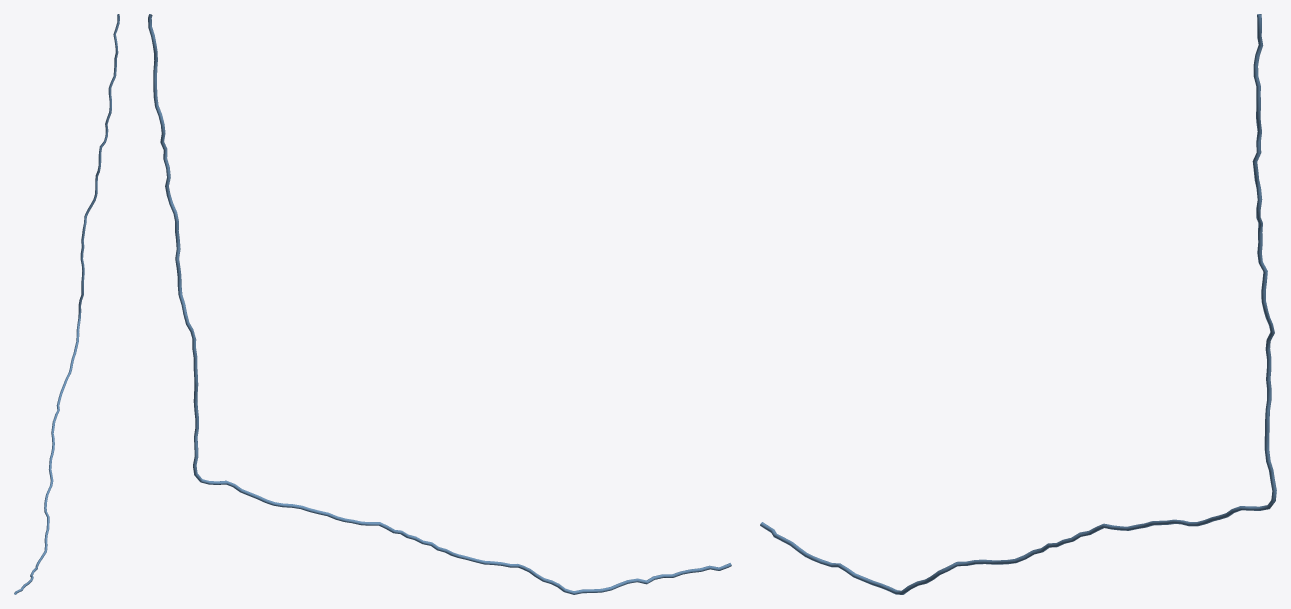
Rendered from sweep165.fbx.
3 views of the same model, side by side, from view 1: azimuth 30°, elevation 25°; view 2: azimuth 150°, elevation 25°; view 3: azimuth 270°, elevation 25° (orthographic). The views are drawn at different scales.
Parts seen in each view (by area): view 1: sweep165; view 2: sweep165; view 3: sweep165.
Boxes of the visible parts, bbox=[...] form: sweep165: bbox=[14, 14, 119, 594]; sweep165: bbox=[148, 14, 731, 594]; sweep165: bbox=[760, 14, 1276, 594].
Bounding box in the file's own units: 2.16 × 3.51 × 2.24.
